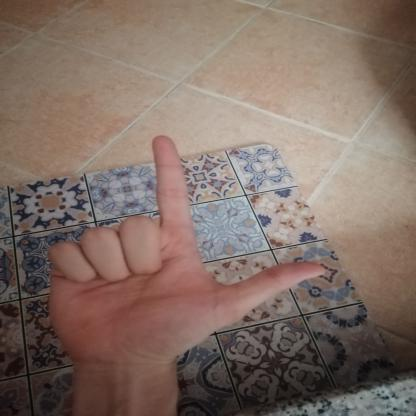LAAM: (27, 125, 342, 384)
